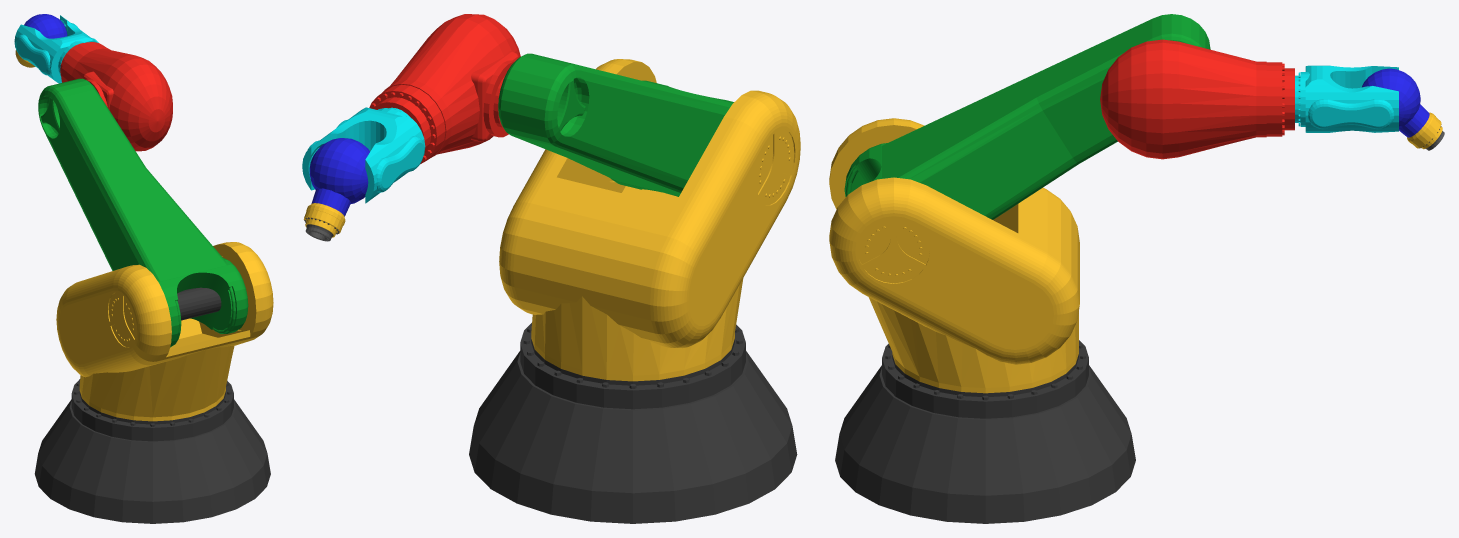
File: robot1.fbx
3 renders of one model, left to right at view 1: azimuth 30°, elevation 25°; view 2: azimuth 150°, elevation 25°; view 3: azimuth 270°, elevation 25°, orthographic. The views are drawn at different scales.
Parts seen in each view (by area): view 1: fix_base_ConvexHull, base_0_ConvexHull, arm_0_ConvexHull, arm_1_ConvexHull, Object001_ConvexHull, Object002_ConvexHull; view 2: base_0_ConvexHull, fix_base_ConvexHull, arm_0_ConvexHull, arm_1_ConvexHull, Object001_ConvexHull, Object002_ConvexHull, Komponente_23_ConvexHull; view 3: base_0_ConvexHull, fix_base_ConvexHull, arm_0_ConvexHull, arm_1_ConvexHull, Object001_ConvexHull, Object002_ConvexHull, Komponente_23_ConvexHull.
Part boxes in pixels (x1,y1,x2,y2): fix_base_ConvexHull: (34, 379, 270, 523); base_0_ConvexHull: (56, 242, 273, 417); arm_0_ConvexHull: (38, 78, 248, 347); arm_1_ConvexHull: (60, 42, 172, 151); Object001_ConvexHull: (14, 15, 98, 83); Object002_ConvexHull: (24, 14, 67, 38); base_0_ConvexHull: (499, 59, 800, 375); fix_base_ConvexHull: (469, 323, 797, 523); arm_0_ConvexHull: (498, 53, 733, 196); arm_1_ConvexHull: (369, 14, 520, 164); Object001_ConvexHull: (302, 107, 425, 203); Object002_ConvexHull: (309, 138, 369, 216); Komponente_23_ConvexHull: (303, 203, 345, 241); base_0_ConvexHull: (829, 118, 1079, 387); fix_base_ConvexHull: (835, 340, 1135, 523); arm_0_ConvexHull: (844, 14, 1210, 219); arm_1_ConvexHull: (1100, 39, 1294, 159); Object001_ConvexHull: (1295, 65, 1398, 132); Object002_ConvexHull: (1362, 68, 1429, 137); Komponente_23_ConvexHull: (1407, 112, 1444, 150).
Size of the model in its own units: 45.83 by 93.69 by 75.37.
